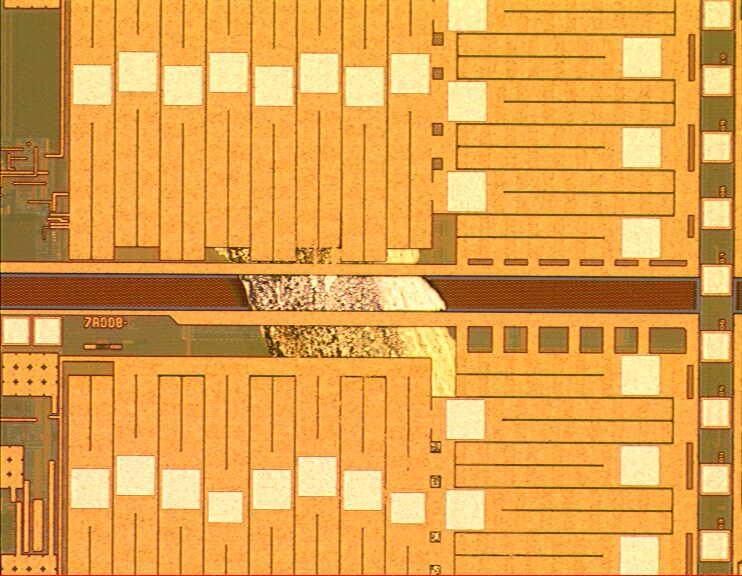BLOCK ETCH: (211, 247, 457, 398)
